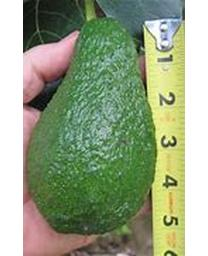avocado: (27, 14, 165, 236)
